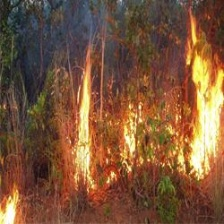fire: (191, 39, 222, 181), (69, 68, 94, 187), (121, 108, 142, 170), (1, 196, 25, 224)
